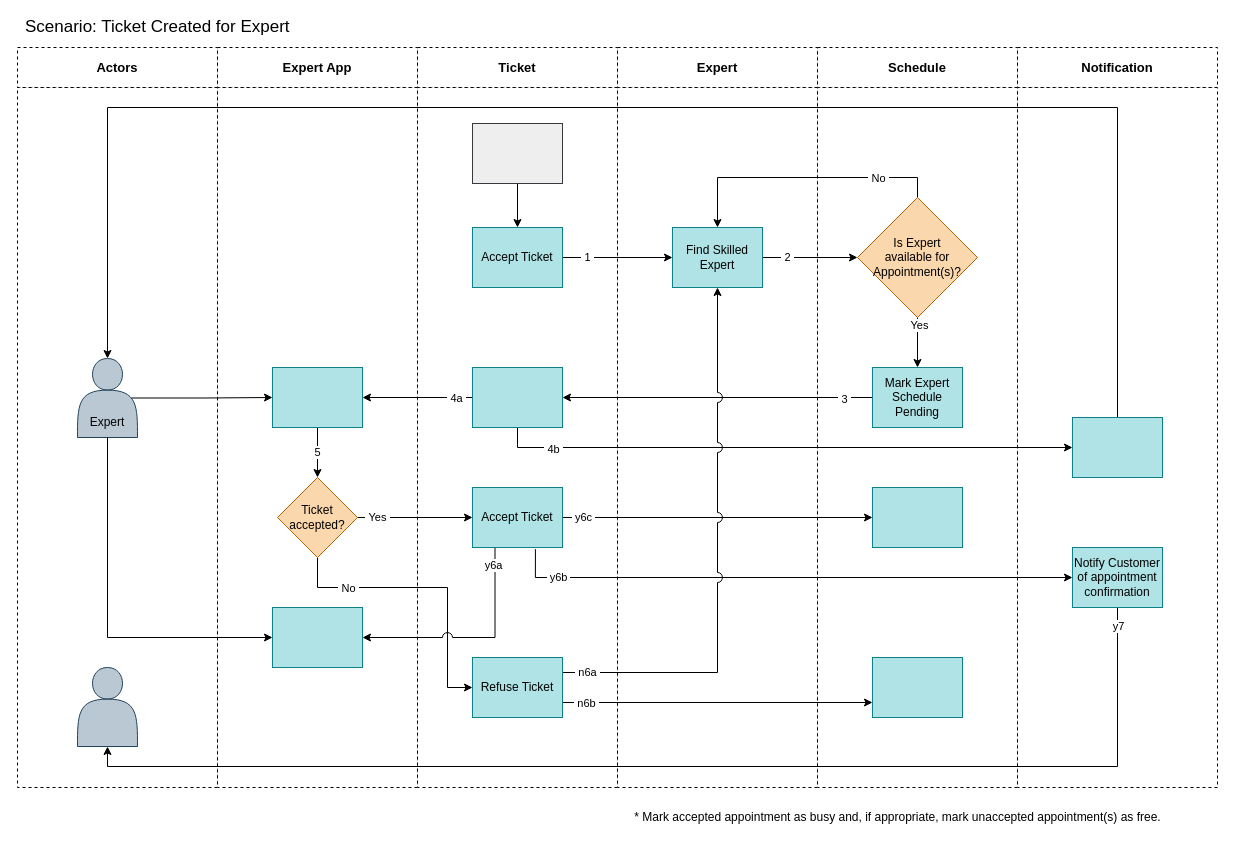
Image size: 1235x844. Some labels were removed from this diagram. Here are the shapes that lost their labels. From the top down, the centre of each, then its label:
At [517,153]: "<from Customer Creates Ticket scenario>".
At [317,397]: "Alert Expert to new Ticket".
At [517,397]: "Assign Expert to Ticket".
At [1117,447]: "Notify Expert of assigned Ticket via SMS".
At [917,517]: "Update Expert Schedule *".
At [317,637]: "Show as accepted".
At [107,706]: "Customer".
At [917,687]: "Mark Expert Schedule Free".
